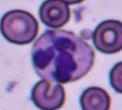N: (30, 30, 94, 83)
